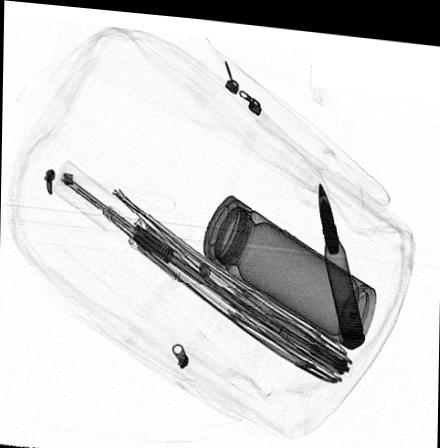Bullet: (317, 173, 365, 343)
